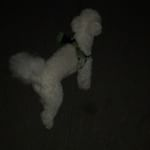puppy: (12, 8, 105, 134)
